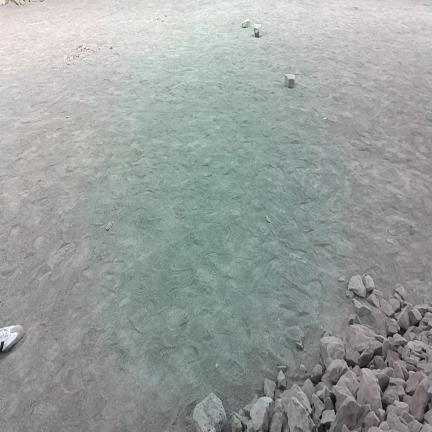Rock: (345, 324, 382, 367), (330, 397, 370, 431), (193, 393, 226, 431), (357, 368, 382, 411), (281, 384, 312, 416), (288, 397, 314, 431), (409, 379, 429, 421), (250, 397, 274, 431), (320, 337, 345, 368), (337, 370, 359, 398), (333, 386, 354, 411), (371, 368, 393, 391), (327, 360, 348, 384), (406, 372, 425, 395), (318, 409, 336, 432), (348, 275, 366, 298), (269, 402, 282, 431), (382, 386, 399, 408), (387, 415, 409, 431), (302, 379, 315, 406), (387, 401, 409, 415), (353, 299, 371, 316), (234, 412, 250, 430), (394, 360, 408, 380), (312, 394, 324, 417), (365, 412, 380, 430), (385, 317, 400, 335), (244, 395, 257, 415), (323, 386, 336, 406), (397, 310, 410, 330), (380, 299, 394, 317), (311, 364, 323, 384), (264, 379, 276, 398), (404, 326, 420, 340), (370, 356, 387, 369), (408, 340, 426, 352), (409, 309, 422, 325), (387, 350, 399, 367), (362, 275, 374, 292), (421, 343, 431, 363), (394, 363, 405, 381), (389, 377, 406, 388), (414, 304, 431, 315), (322, 372, 332, 389), (393, 334, 407, 346), (231, 416, 242, 431), (410, 350, 425, 361), (395, 284, 406, 299), (401, 411, 414, 423), (408, 420, 422, 431), (405, 356, 419, 367), (389, 298, 400, 312), (277, 371, 286, 388), (383, 339, 391, 358), (368, 294, 379, 307), (285, 74, 295, 88), (379, 320, 387, 337), (397, 386, 406, 401), (388, 337, 397, 352), (372, 289, 383, 300), (394, 293, 403, 306), (312, 413, 320, 427), (403, 345, 410, 361), (245, 420, 255, 431), (349, 314, 360, 324), (424, 410, 431, 425), (254, 24, 262, 37), (416, 360, 426, 370), (316, 389, 324, 401), (320, 355, 326, 371), (377, 409, 385, 421), (298, 364, 307, 374), (379, 422, 389, 431), (424, 363, 431, 375), (238, 408, 246, 418), (295, 339, 303, 349), (316, 382, 324, 392), (420, 424, 431, 431), (242, 19, 250, 28), (403, 395, 411, 404), (407, 364, 417, 371), (375, 335, 385, 342), (418, 331, 429, 337), (399, 416, 407, 424), (346, 291, 354, 299), (106, 221, 112, 231), (368, 427, 383, 431), (398, 346, 403, 358), (428, 384, 431, 403), (420, 318, 428, 325), (419, 326, 429, 331), (406, 303, 413, 310), (342, 425, 350, 431), (422, 336, 428, 344), (386, 239, 394, 244), (355, 427, 364, 431), (339, 276, 345, 282), (409, 371, 414, 378), (424, 312, 431, 317), (389, 230, 396, 235), (13, 0, 20, 5), (323, 332, 329, 337), (20, 0, 25, 5), (429, 336, 432, 344), (416, 335, 420, 340), (429, 320, 431, 328), (429, 341, 432, 346), (354, 7, 358, 10), (429, 330, 431, 336), (216, 363, 218, 368), (110, 46, 113, 49), (157, 17, 160, 20), (388, 430, 397, 431), (98, 47, 101, 50), (162, 18, 164, 22), (165, 13, 167, 17), (162, 18, 164, 21), (242, 412, 242, 413)
